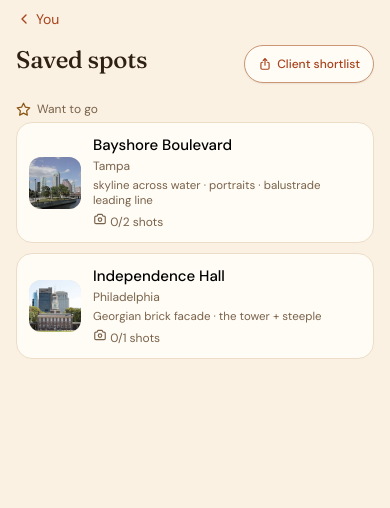
SavedScreen — client shortlist builder › builds and copies a client link: pick spots → title → share
The width and height of the screenshot is (390, 508).
Click the button "Client shortlist": (309, 64) [244, 45, 374, 83]
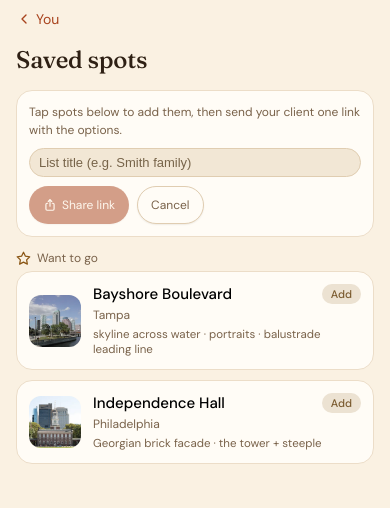
Note: pick mode: tapping a card selects it instead of navigating
Click the button "Bayshore Boulevard": (55, 320) [16, 271, 374, 370]
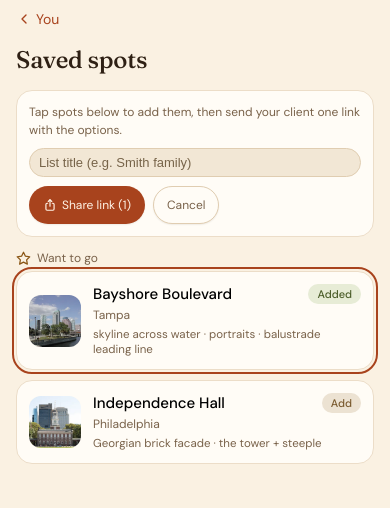
Click the button "Independence Hall": (55, 422) [16, 380, 374, 464]
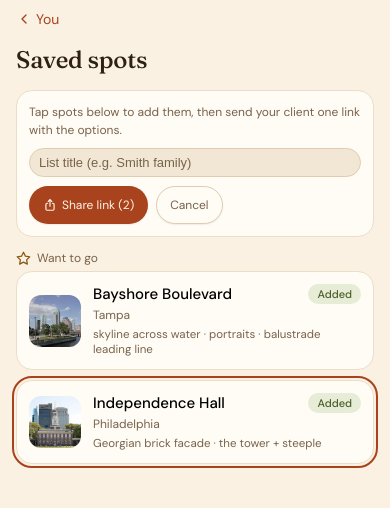
Expected: the text "Added" is shown 2 times, [308, 284, 361, 304]; [308, 393, 361, 413]
In the field with placeholder "List title (e.g. Smith family)": (195, 162) [29, 148, 361, 177], type "Smith family"
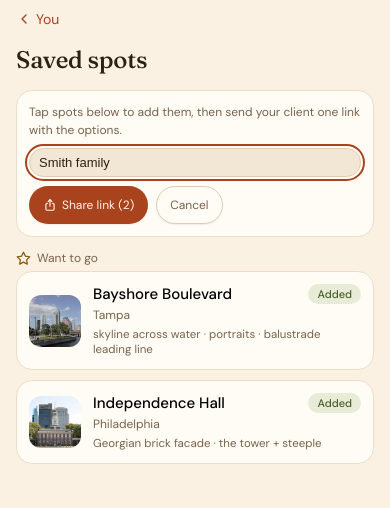
Click the button "Share link (2)": (89, 205) [29, 186, 148, 224]
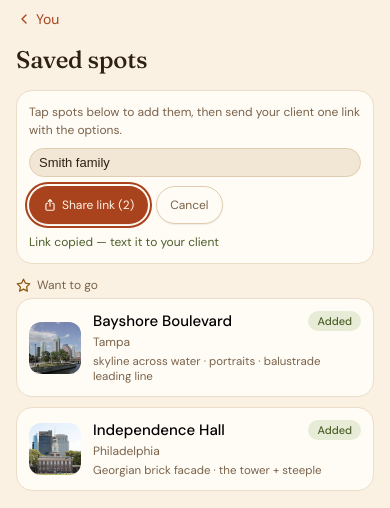
Expected: the text "Link copied — text it to your client" is shown, [29, 234, 219, 250]
